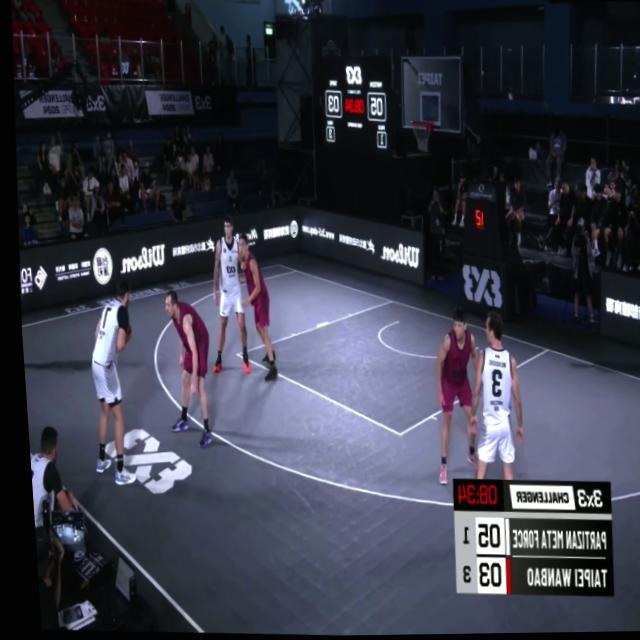ball: (110, 322, 128, 352)
hoop: (406, 115, 432, 154)
player: (454, 308, 525, 513), (76, 282, 138, 481), (423, 309, 481, 485), (154, 290, 211, 453), (199, 219, 246, 378), (230, 234, 276, 382)
